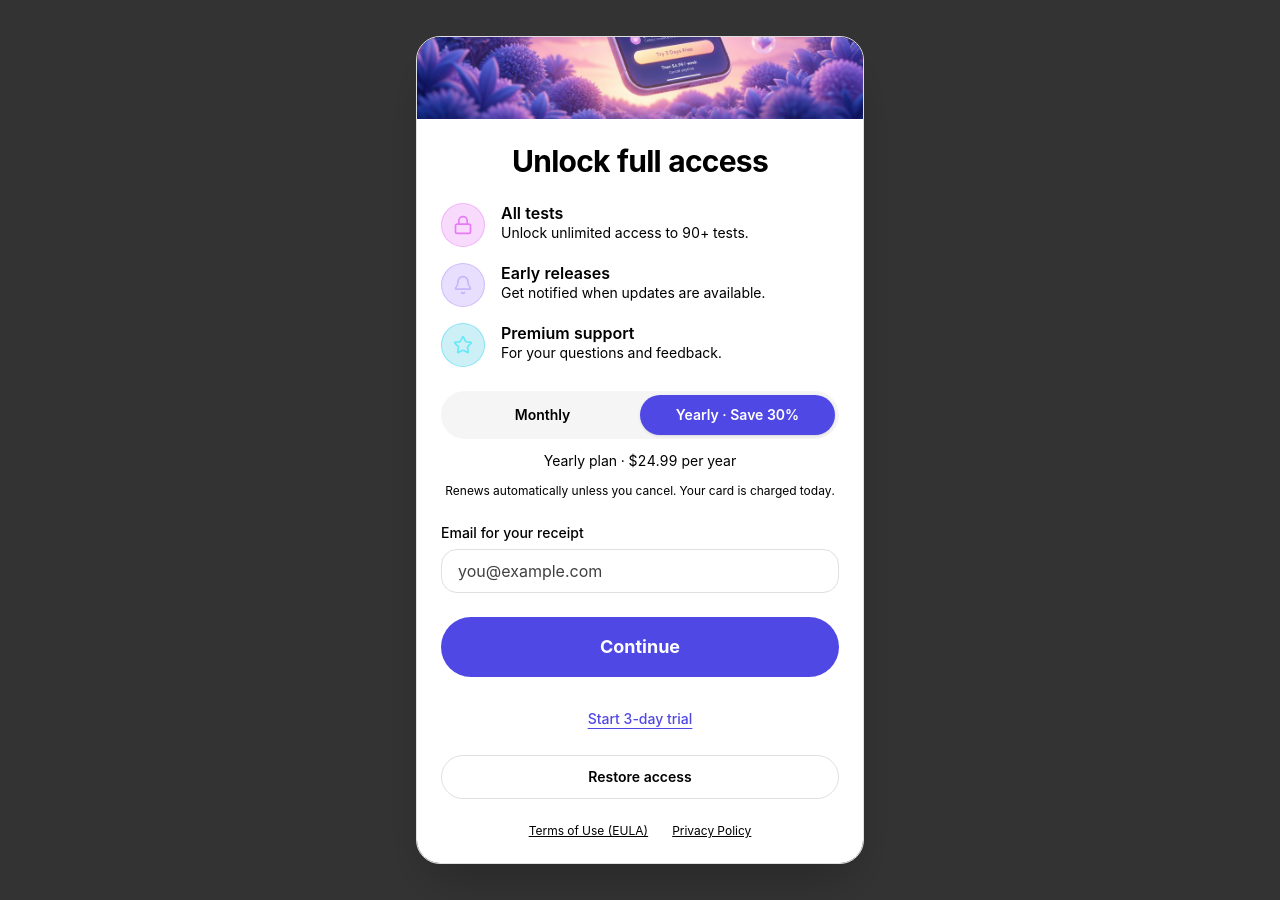
Test case: PaywallModal website restore (one-time code) › wrong code shows an error and does not unlock
(page scrolled)
Click the button "Restore access" at (640, 777), box [441,755,839,799]
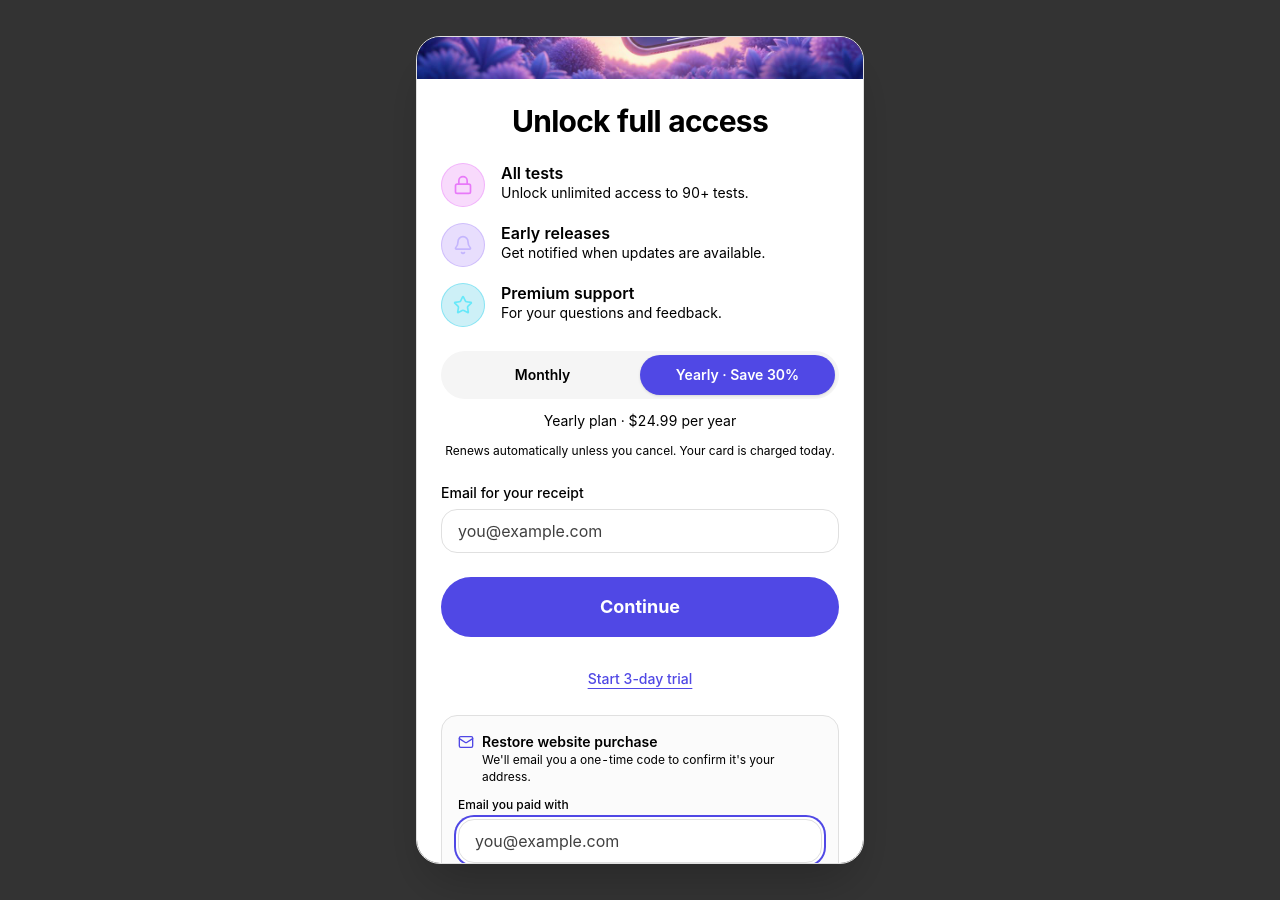
Type "payer@example.com" into the field labelled "Email you paid with" at (640, 841), box [458,819,822,863]
(page scrolled)
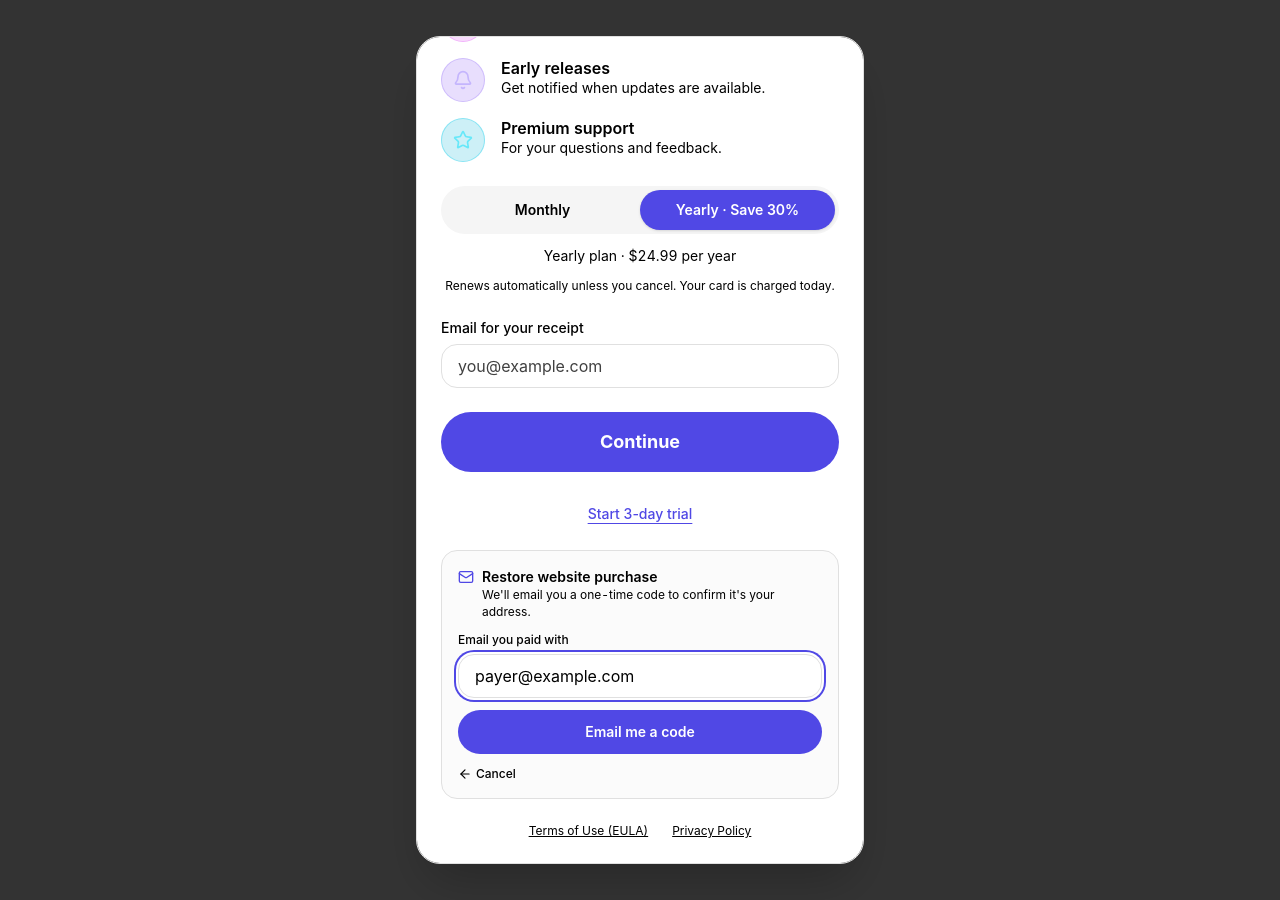
Click the button "Email me a code" at (640, 732), box [458,710,822,754]
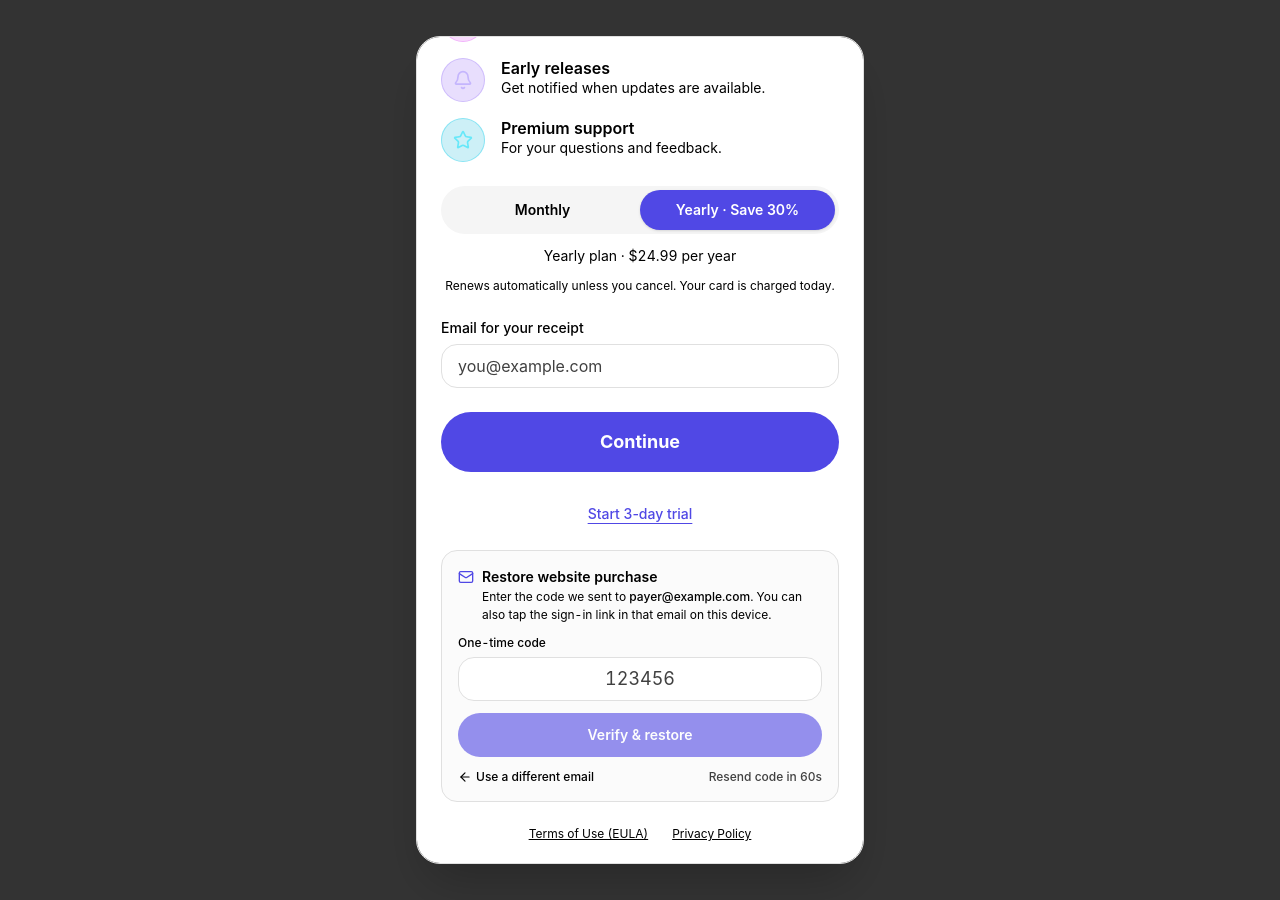
Type "000000" into the field labelled "One-time code" at (640, 679), box [458,657,822,701]
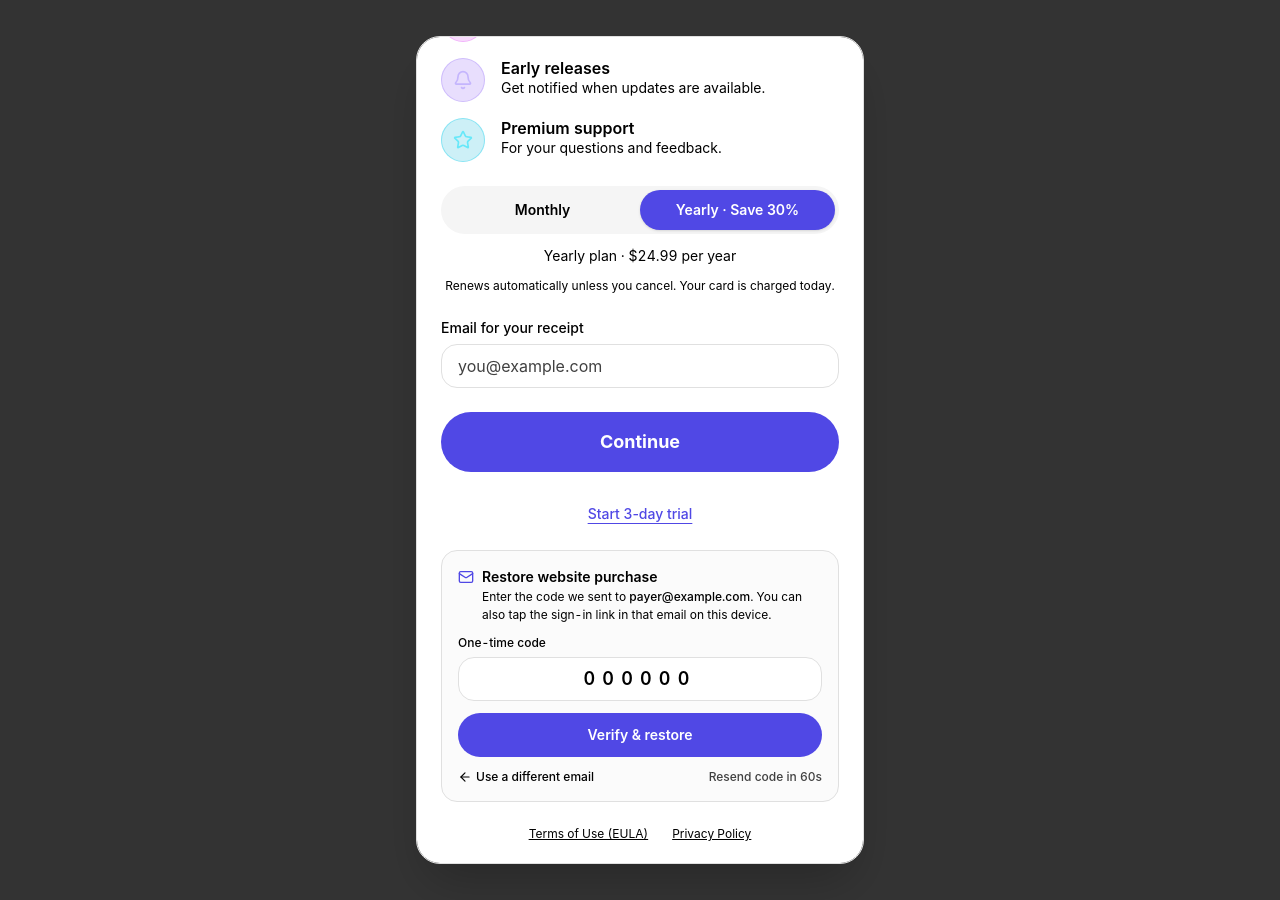
Click the button "Verify & restore" at (640, 735), box [458,713,822,757]
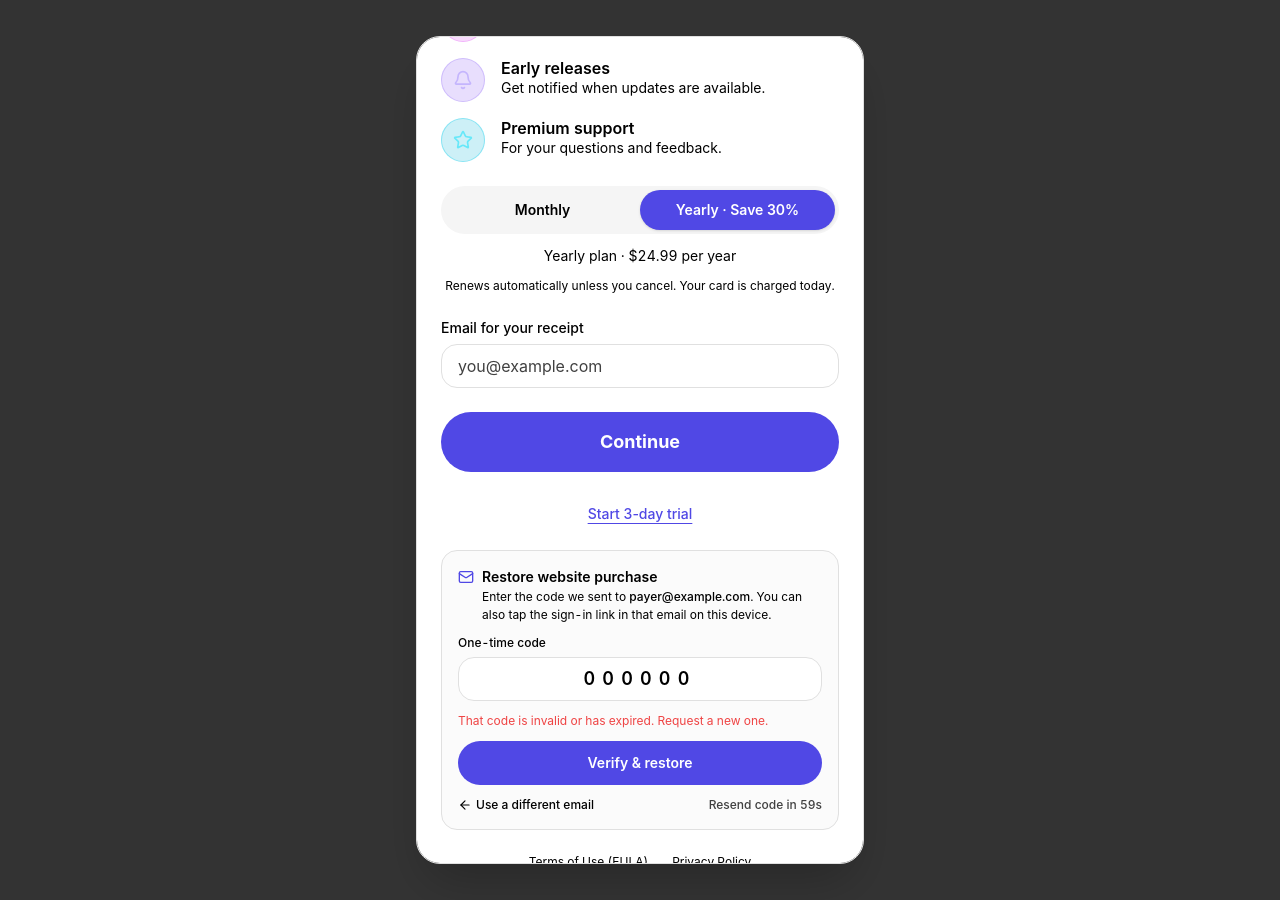
Now the message shows "invalid or has expired", box [458,713,768,728]
